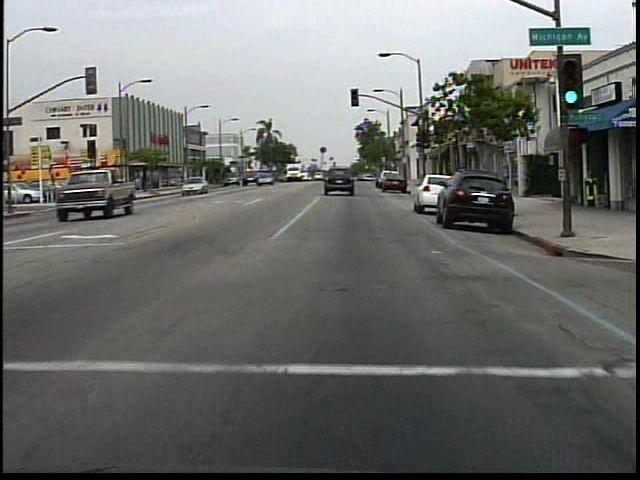person: (89, 179, 108, 207)
